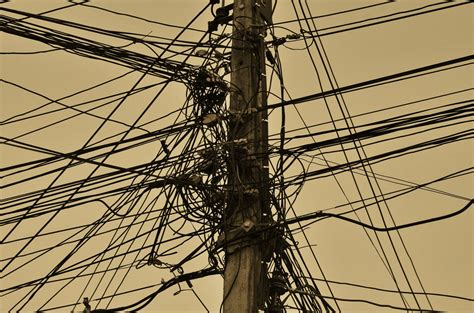pole: (121, 3, 370, 313)
